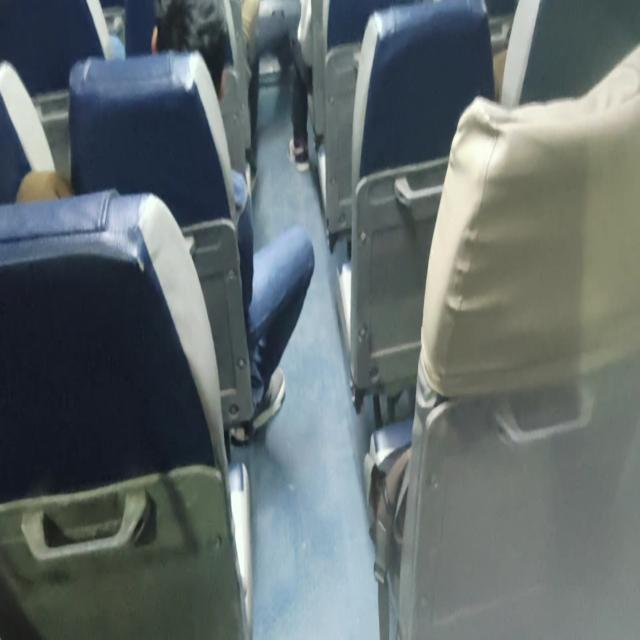person: (150, 1, 315, 440), (285, 0, 313, 172), (240, 0, 261, 181)
